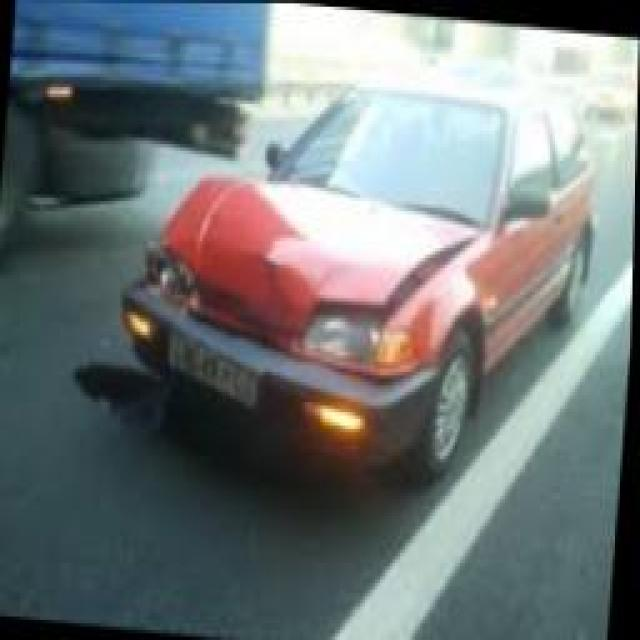Bonnet: (161, 173, 475, 338)
Bumper: (69, 343, 375, 486)
Light: (146, 234, 197, 301)
